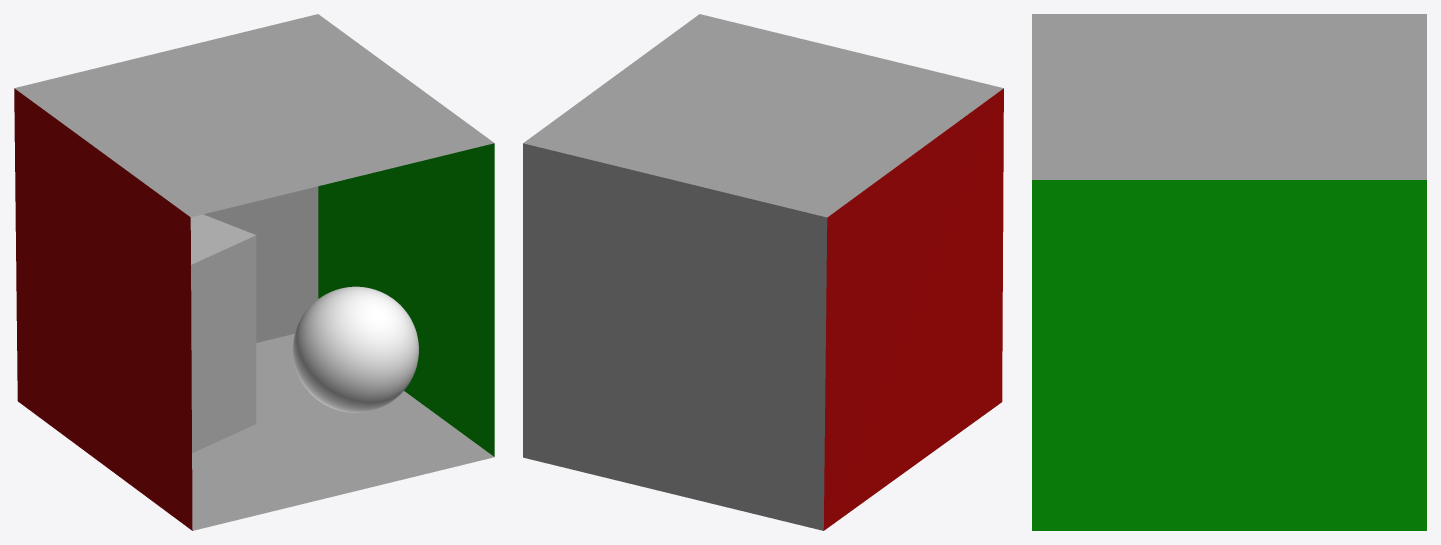
File: glass_ball.glb
3 views of the same model, side by side, from view 1: azimuth 30°, elevation 25°; view 2: azimuth 150°, elevation 25°; view 3: azimuth 270°, elevation 25° (orthographic). The views are drawn at different scales.
Parts seen in each view (by area): view 1: cornell.box, large.box, Sphere; view 2: cornell.box; view 3: cornell.box.
Part boxes in pixels (left/top/right/bottom): cornell.box: left=14, top=14, right=494, bottom=530; large.box: left=190, top=214, right=256, bottom=453; Sphere: left=292, top=286, right=418, bottom=412; cornell.box: left=523, top=14, right=1003, bottom=530; cornell.box: left=1032, top=14, right=1426, bottom=530.
Size of the model in its own units: 5.56 by 5.49 by 5.59.
